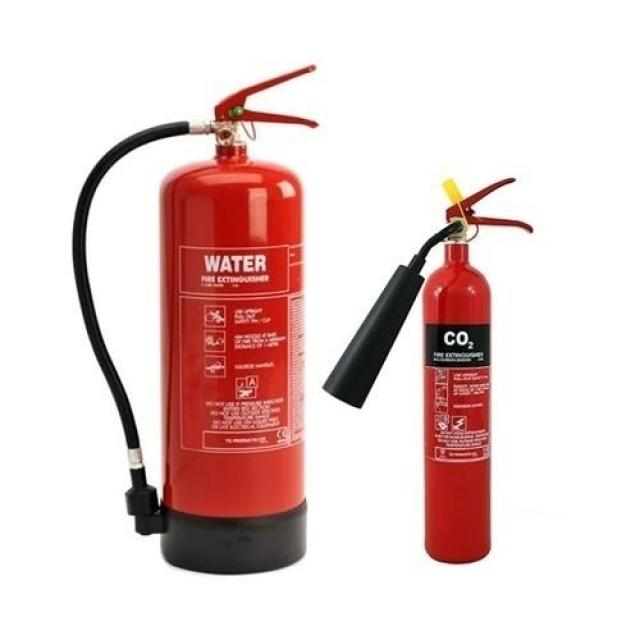fire_extinguisher: (66, 61, 321, 578), (318, 168, 536, 568)
